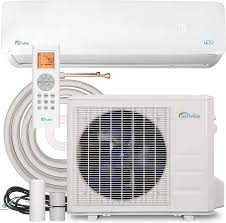ac: (2, 1, 226, 69)
